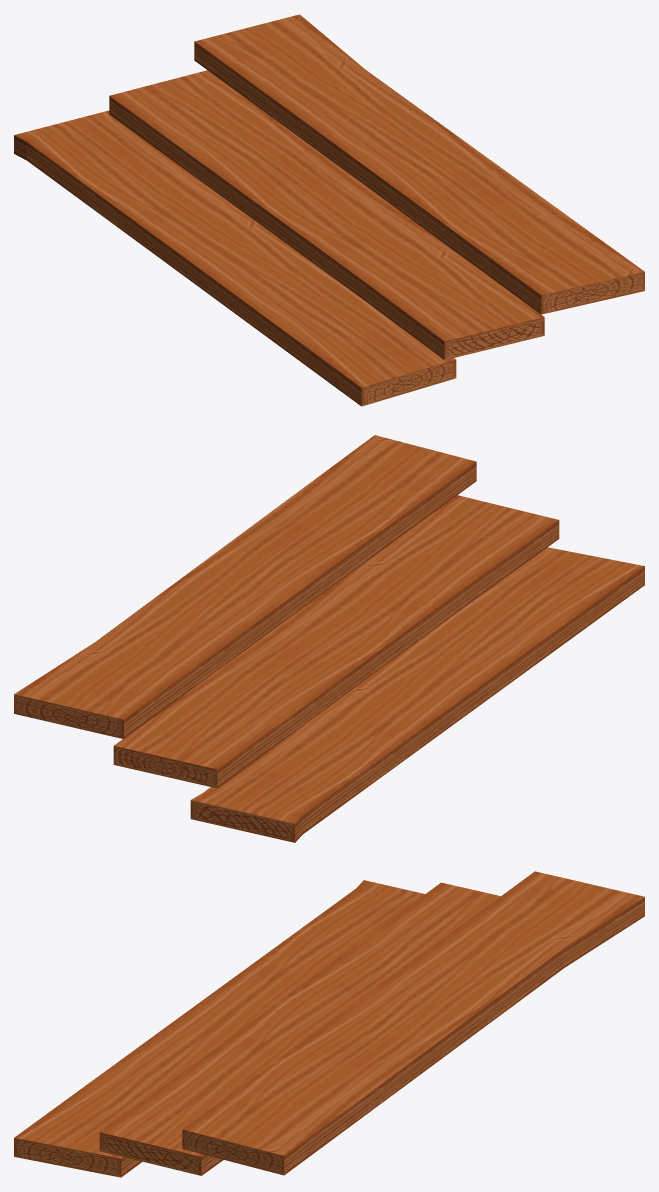
File: woodstair.fbx
3 views of the same model, one above another, from view 1: azimuth 30°, elevation 25°; view 2: azimuth 150°, elevation 25°; view 3: azimuth 330°, elevation 25° (orthographic).
Parts seen in each view (by area): view 1: Cube.004_Cube.003, Cube.004_Cube.004, Cube.004_Cube.005; view 2: Cube.004_Cube.003, Cube.004_Cube.004, Cube.004_Cube.005; view 3: Cube.004_Cube.003, Cube.004_Cube.005, Cube.004_Cube.004.
Boxes of the visible parts, box(x1,y1,x2,y2) form: Cube.004_Cube.003: box(194, 14, 644, 314); Cube.004_Cube.004: box(109, 70, 544, 359); Cube.004_Cube.005: box(14, 110, 456, 406); Cube.004_Cube.003: box(14, 435, 476, 738); Cube.004_Cube.004: box(113, 495, 559, 788); Cube.004_Cube.005: box(190, 547, 644, 842); Cube.004_Cube.003: box(182, 871, 644, 1175); Cube.004_Cube.005: box(14, 880, 424, 1177); Cube.004_Cube.004: box(99, 882, 500, 1175).
Size of the model in its own units: 1.87 by 0.4722 by 4.11.
